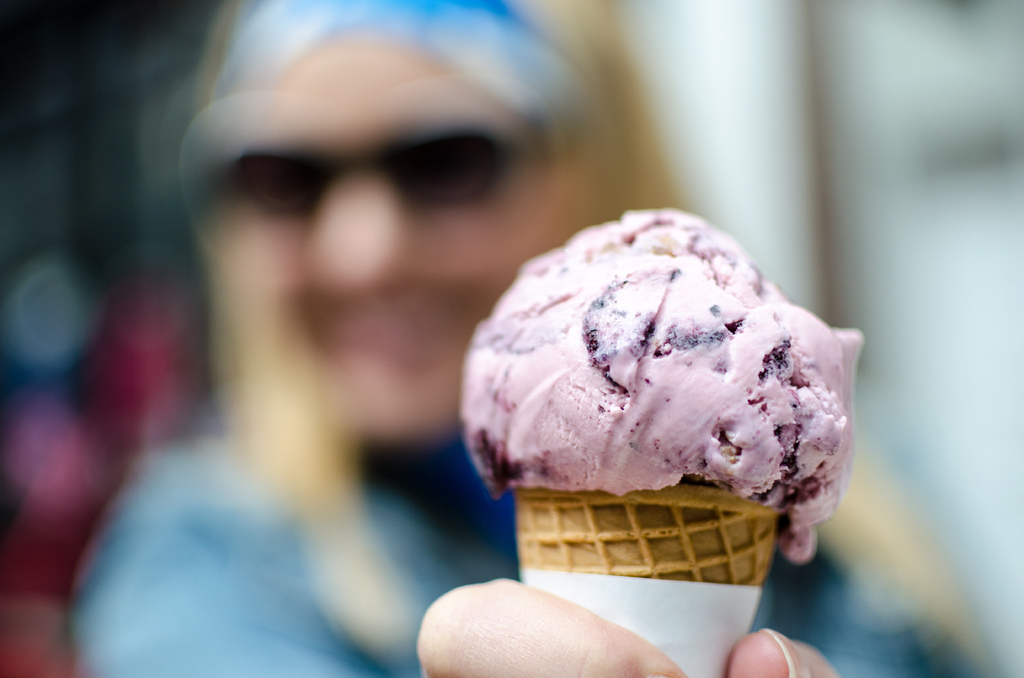Person: (60, 0, 1019, 677)
